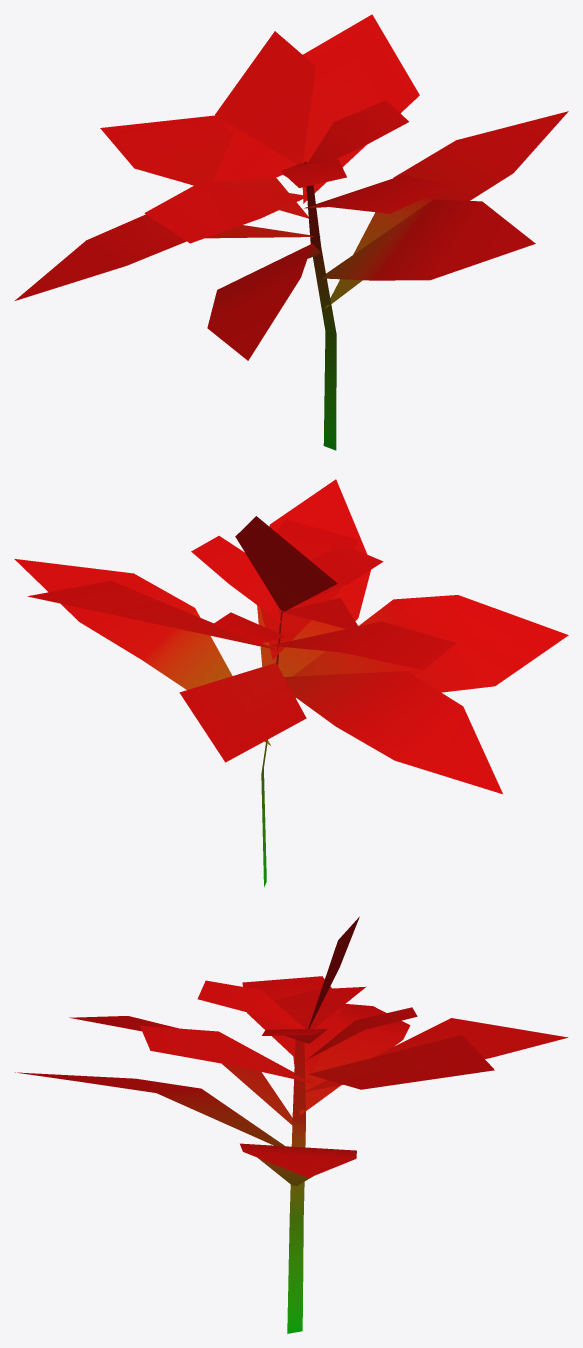
File: Small Balsam_LOD5_Var2_xefmcgrqx.fbx
The picture shows the model from 3 angles, top to bottom: view 1: azimuth 30°, elevation 25°; view 2: azimuth 150°, elevation 25°; view 3: azimuth 270°, elevation 25°; orthographic projection.
Visible parts, largest first — view 1: _3r9x_Var2_LOD5; view 2: _3r9x_Var2_LOD5; view 3: _3r9x_Var2_LOD5.
Boxes of the visible parts, bbox=[...] form: _3r9x_Var2_LOD5: bbox=[15, 14, 568, 450]; _3r9x_Var2_LOD5: bbox=[14, 479, 568, 887]; _3r9x_Var2_LOD5: bbox=[15, 916, 568, 1333].
Bounding box in the file's own units: 40.15 × 29.3 × 36.36.
